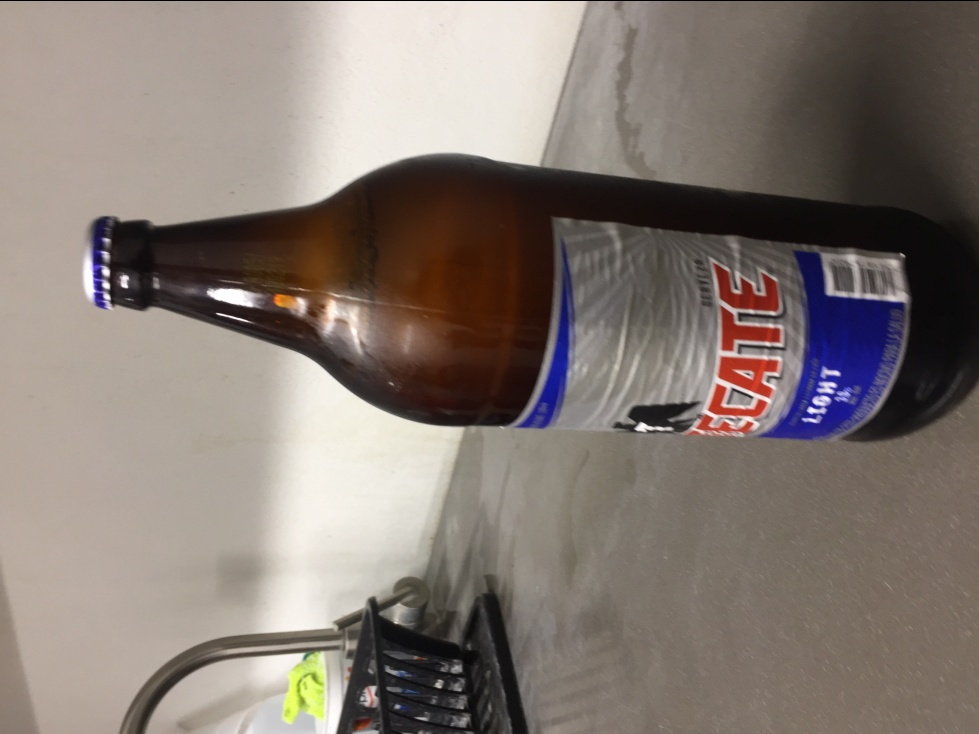tecateC: (86, 152, 978, 442)
